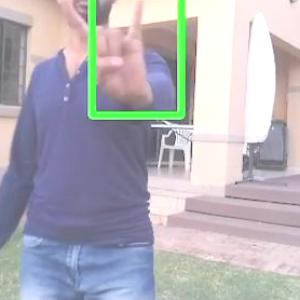takeoff-hand: (46, 0, 156, 108)
